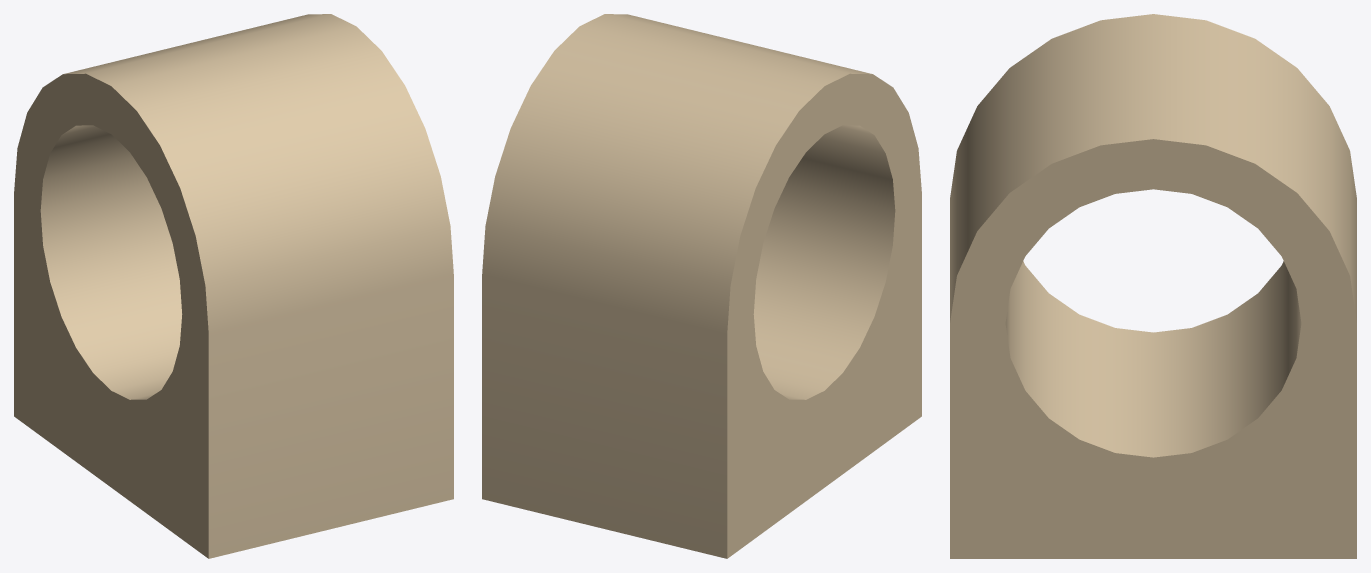
The model's file is original-21.obj.
3 views of the same model, side by side, from view 1: azimuth 30°, elevation 25°; view 2: azimuth 150°, elevation 25°; view 3: azimuth 270°, elevation 25° (orthographic). The views are drawn at different scales.
Visible parts, largest first — view 1: Group15/mesh38/mesh38-geometry#mesh38-geometry; view 2: Group15/mesh38/mesh38-geometry#mesh38-geometry; view 3: Group15/mesh38/mesh38-geometry#mesh38-geometry.
Boxes of the visible parts, x1,y1,x2,y2 form: Group15/mesh38/mesh38-geometry#mesh38-geometry: [14, 14, 453, 558]; Group15/mesh38/mesh38-geometry#mesh38-geometry: [482, 14, 921, 558]; Group15/mesh38/mesh38-geometry#mesh38-geometry: [950, 14, 1356, 558].
Bounding box in the file's own units: 0.0152 × 0.0238 × 0.0209.
